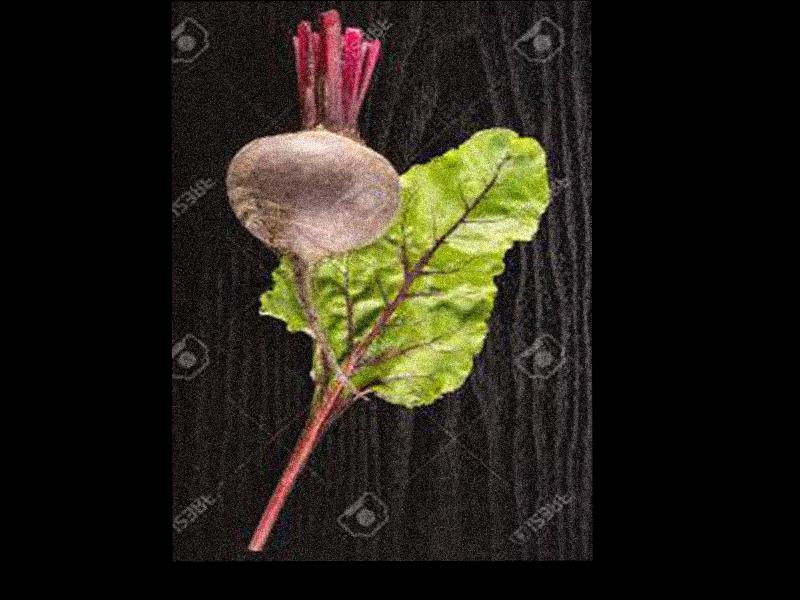Beet: (226, 8, 401, 400)
